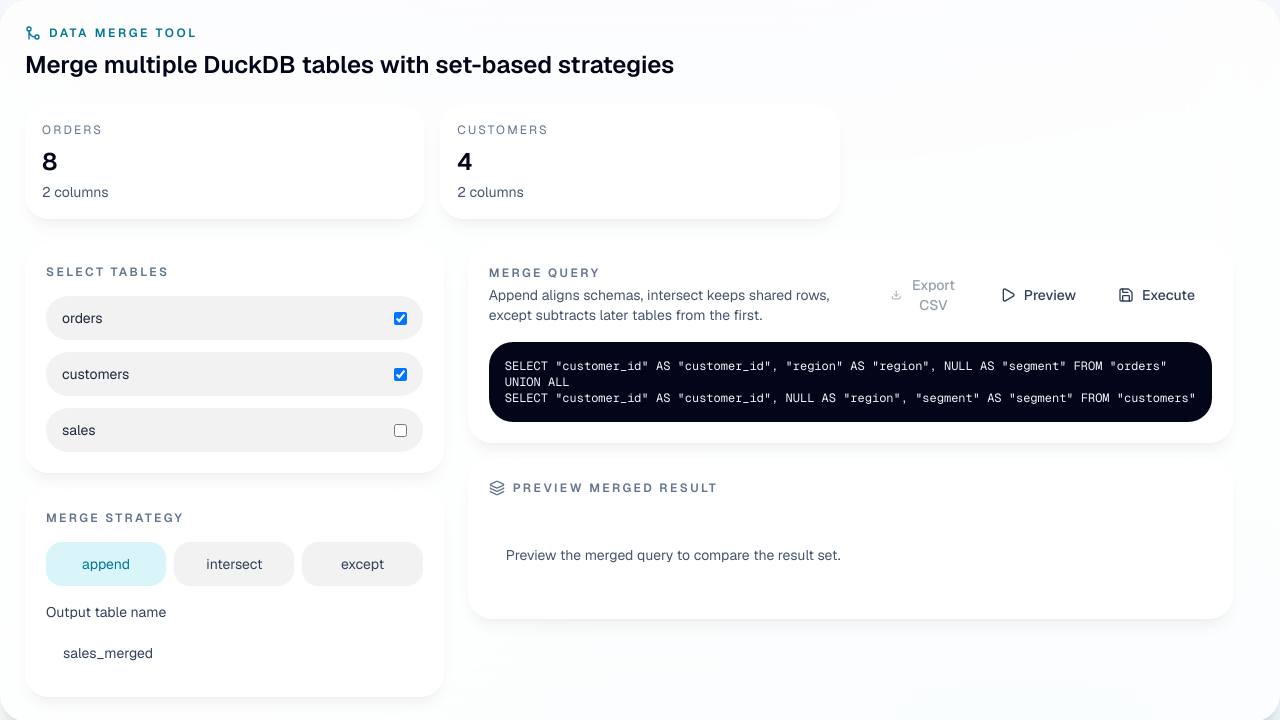
Scenario: DataMergeTool › previews an intersect merge strategy
The image size is (1280, 720).
Check: the heading "Merge multiple DuckDB tables with set-based strategies" is shown, box [25,49,674,80]
Click the button "intersect" at (234, 564), box [174,542,294,586]
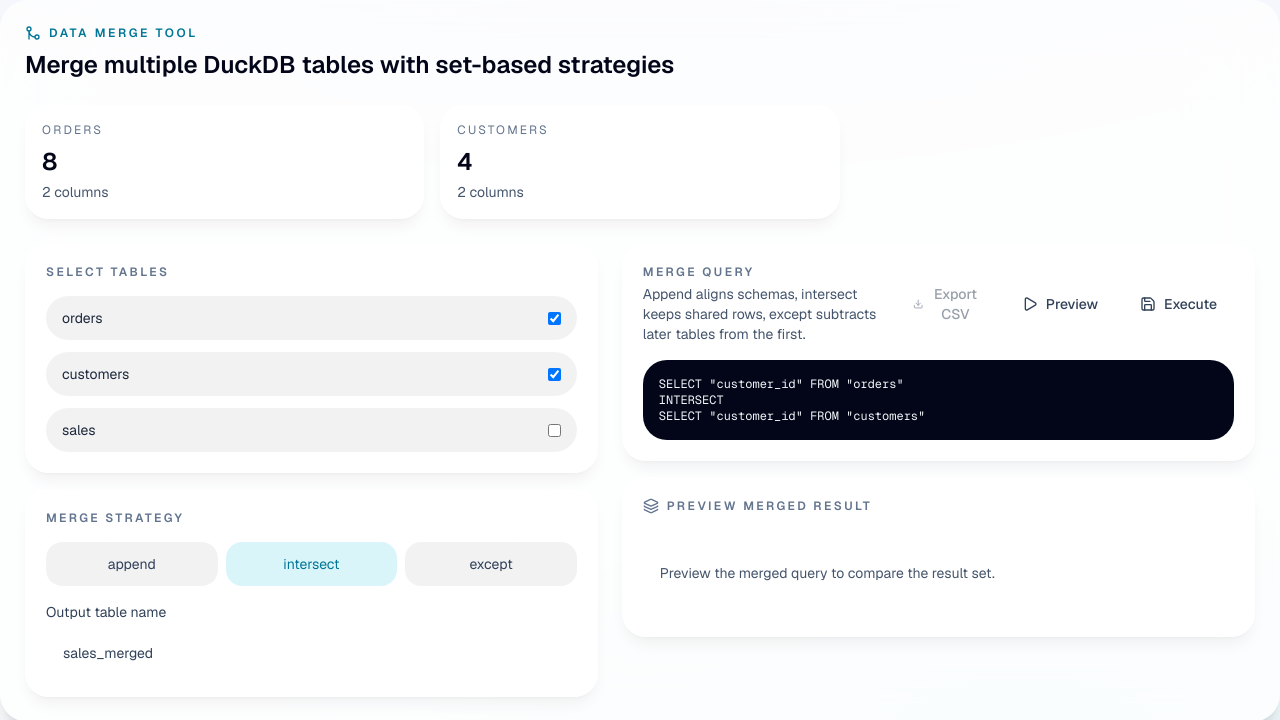
Click the button "Preview" at (1060, 304), box [1005,273,1115,335]
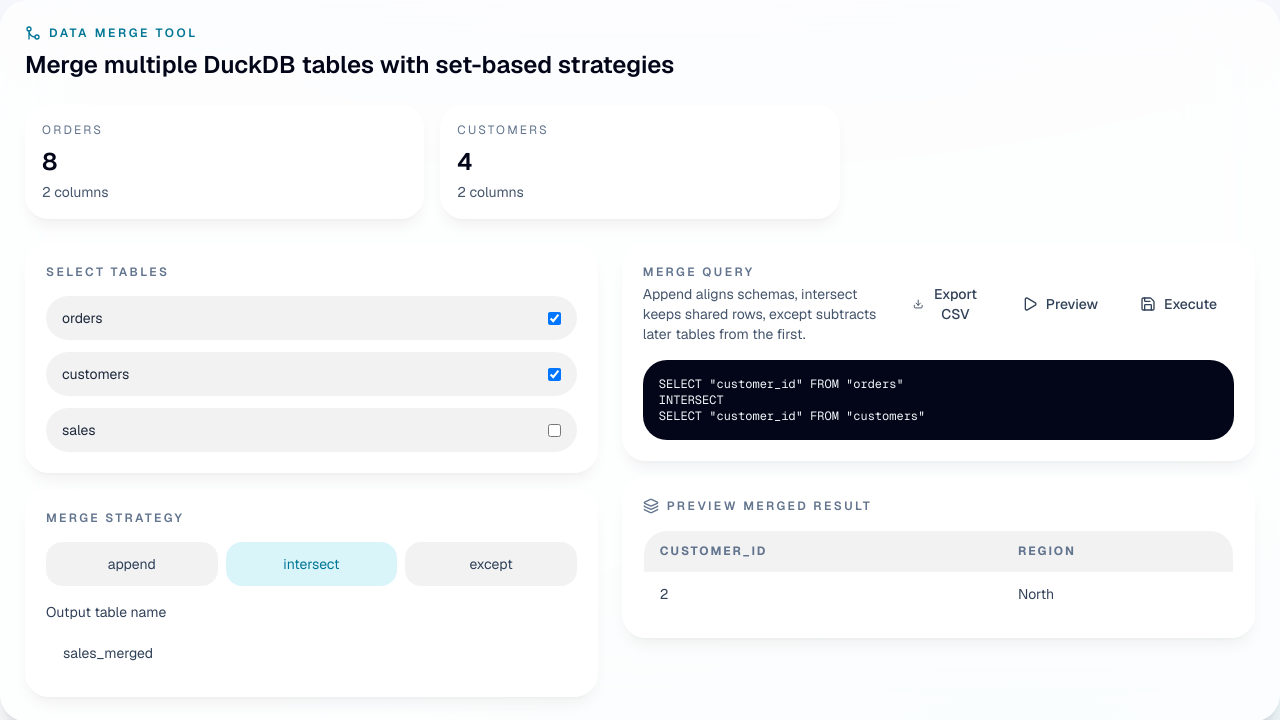
Check: the text "North" is shown, box [1002,572,1233,616]
